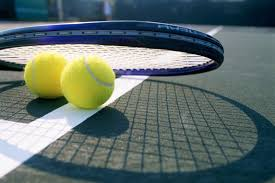tennis_ball: (60, 55, 115, 110), (24, 52, 68, 98)
